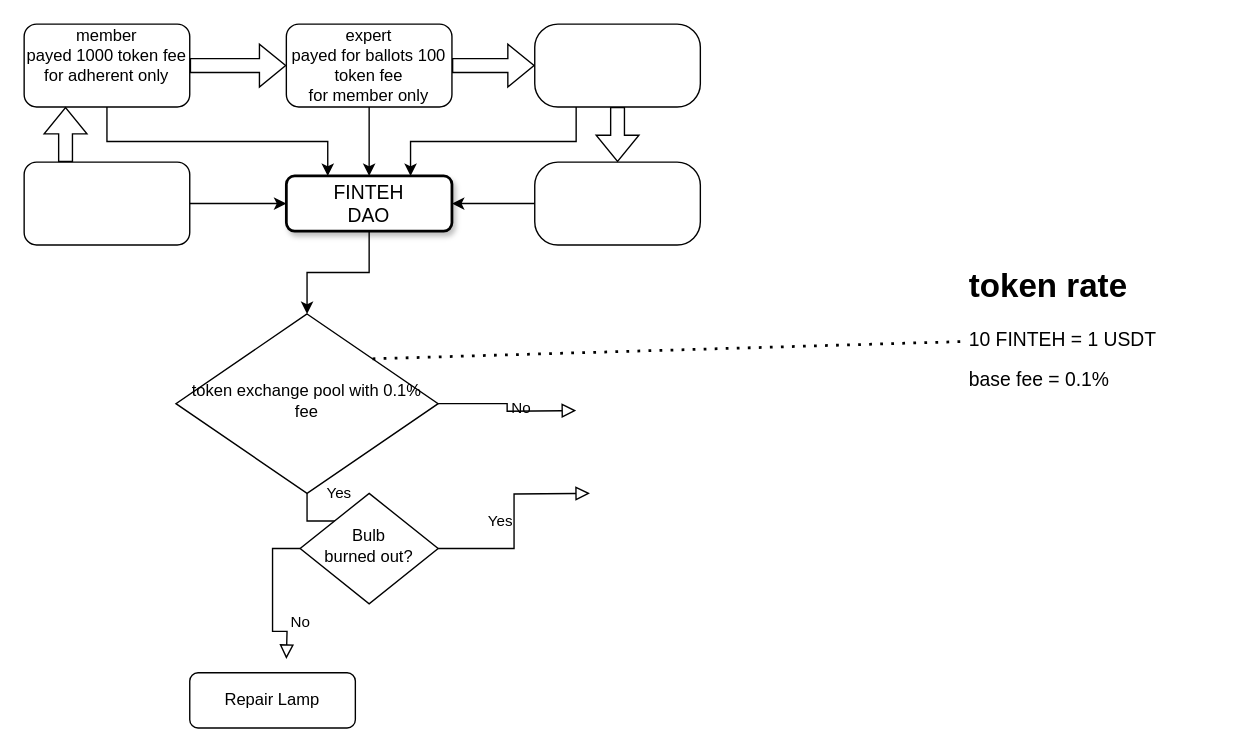
The diagram is 1249 pixels wide and 752 high, and some of its shapes have lost their labels. Each missing label, with the centre of its shape:
adherent payed 1 token fee for half year status: the point at 106,203
governance payed for ballots 1000 token fee for expert only: the point at 616,65
president payed for ballots 10000 token fee for governance only: the point at 616,203
